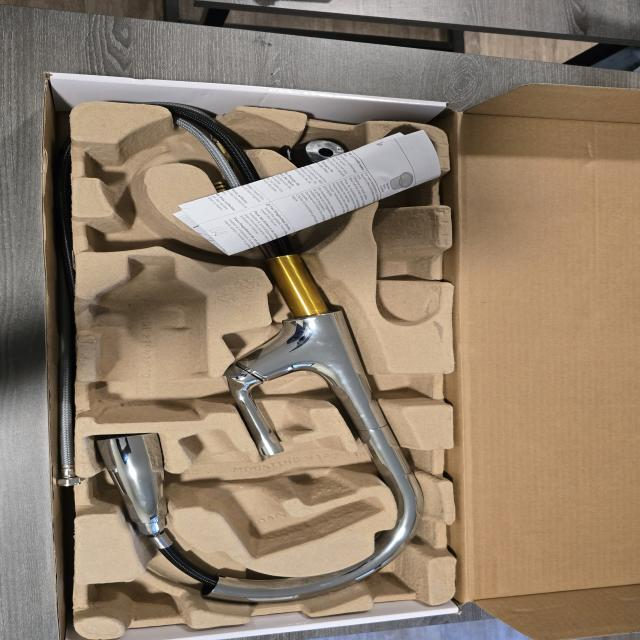1o: (95, 101, 428, 605)
2m: (183, 433, 380, 557)
3m: (94, 257, 204, 423)
4m: (372, 127, 443, 326)
5o: (280, 139, 352, 169)
6m: (86, 129, 175, 191)
7m: (86, 200, 205, 258)
8: (170, 130, 450, 256)
